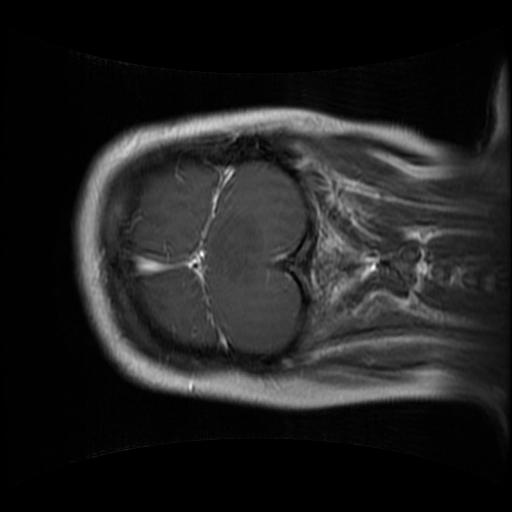glioma: (203, 212, 264, 289)
